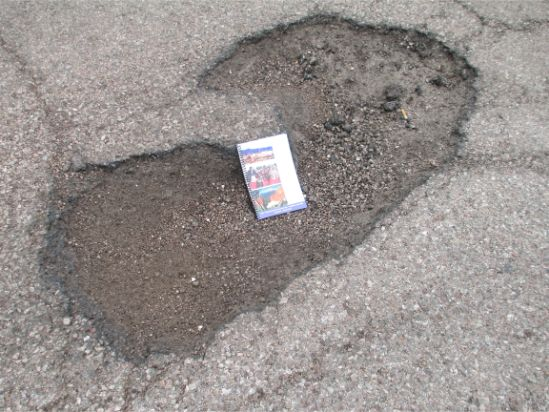pothole: (33, 8, 490, 373)
